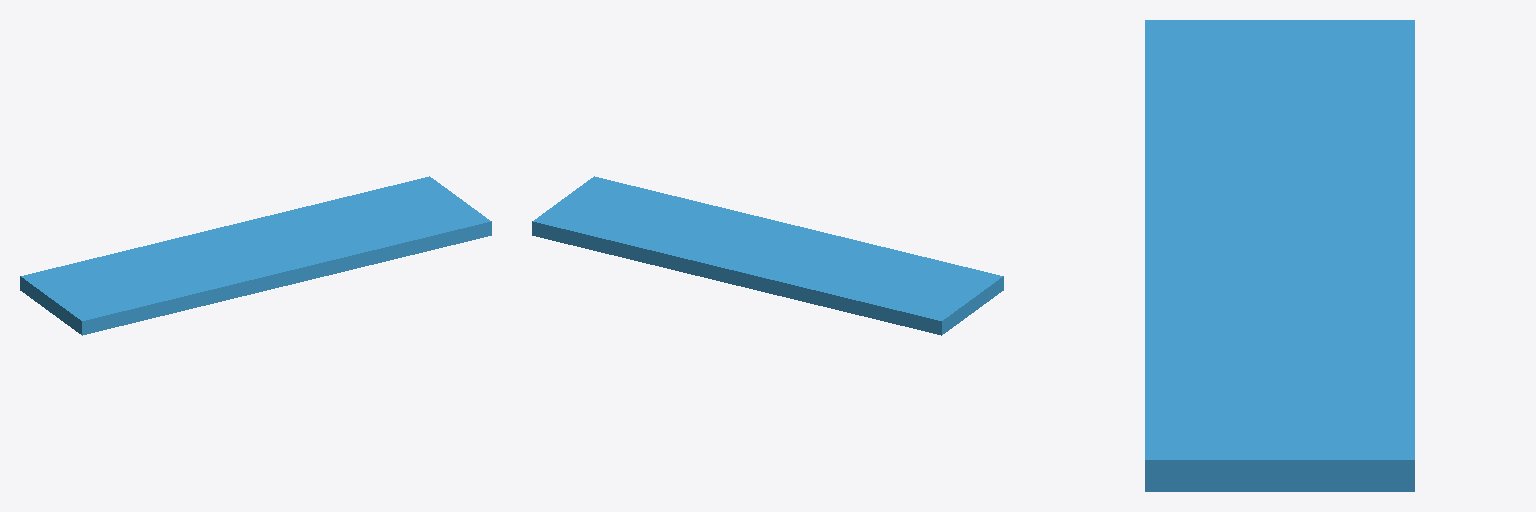
robot.urdf — cylinder_74:
    
    <robot name="cylinder_74">
        <link name="cylinder_74">    
            <fem>
                <origin rpy="0.0 0.0 0.0" xyz="0 0 0" />
                <density value="100" />
                <youngs value="4021"/>
                <poissons value="0.3" />
                <damping value="0.0" />
                <attachDistance value="0.01" />
                <tetmesh filename="[local-path]/sim_data/Custom/Custom_mesh/multi_cylinder_5kPa/cylinder_74.tet" />
                <scale value="0.5"/>
            </fem>
        </link>

        <link name="fix_frame">
            <visual>
                <origin xyz="0.0 0.0 10.065504810998874"/>
                <geometry>
                    <box size="0.15 0.03907394202697393 0.005"/>
                </geometry>
            </visual>
            <collision>
                <origin xyz="0.0 0.0 0.065504810998874"/>
                <geometry>
                    <box size="0.15 0.03907394202697393 0.005"/>
                </geometry>
            </collision>
            <inertial>
                <mass value="500000"/>
                <inertia ixx="0.05" ixy="0.0" ixz="0.0" iyy="0.05" iyz="0.0" izz="0.05"/>
            </inertial>
        </link>
        
        <joint name = "attach" type = "fixed">
            <origin xyz = "0.0 0.0 0.0" rpy = "0 0 0"/>
            <parent link ="cylinder_74"/>
            <child link = "fix_frame"/>
        </joint>  




    </robot>
    

--- What the picture shows (computed from the rendered views, not written in the file) ---
Views: 3 orthographic renders of the robot side by side, from view 1: azimuth 30°, elevation 25°; view 2: azimuth 150°, elevation 25°; view 3: azimuth 270°, elevation 25°.
Model cylinder_74 with 2 links and 1 joints (1 fixed), rooted at cylinder_74, posed all joints at 0.
Visible links, largest first — view 1: fix_frame; view 2: fix_frame; view 3: fix_frame.
Boxes of the visible links, x1,y1,x2,y2 form: fix_frame: (20, 176, 491, 335); fix_frame: (532, 176, 1003, 335); fix_frame: (1145, 20, 1414, 491).
Bounding box of the posed robot: 0.15 × 0.0391 × 0.005 m (x, y, z).
Geometry: primitives only (box / cylinder / sphere), no mesh files.